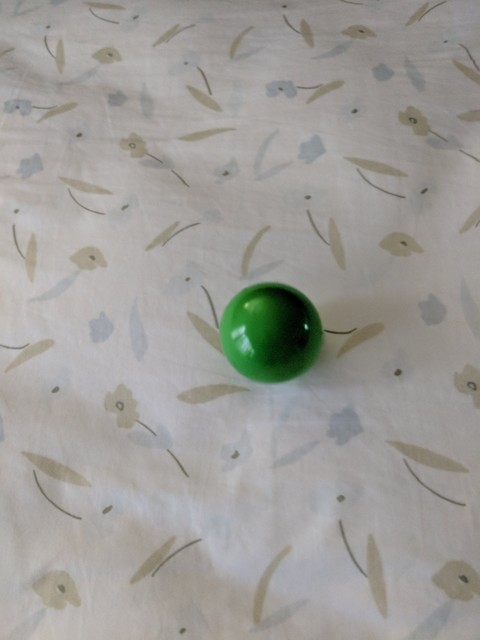ball: (219, 280, 323, 386)
